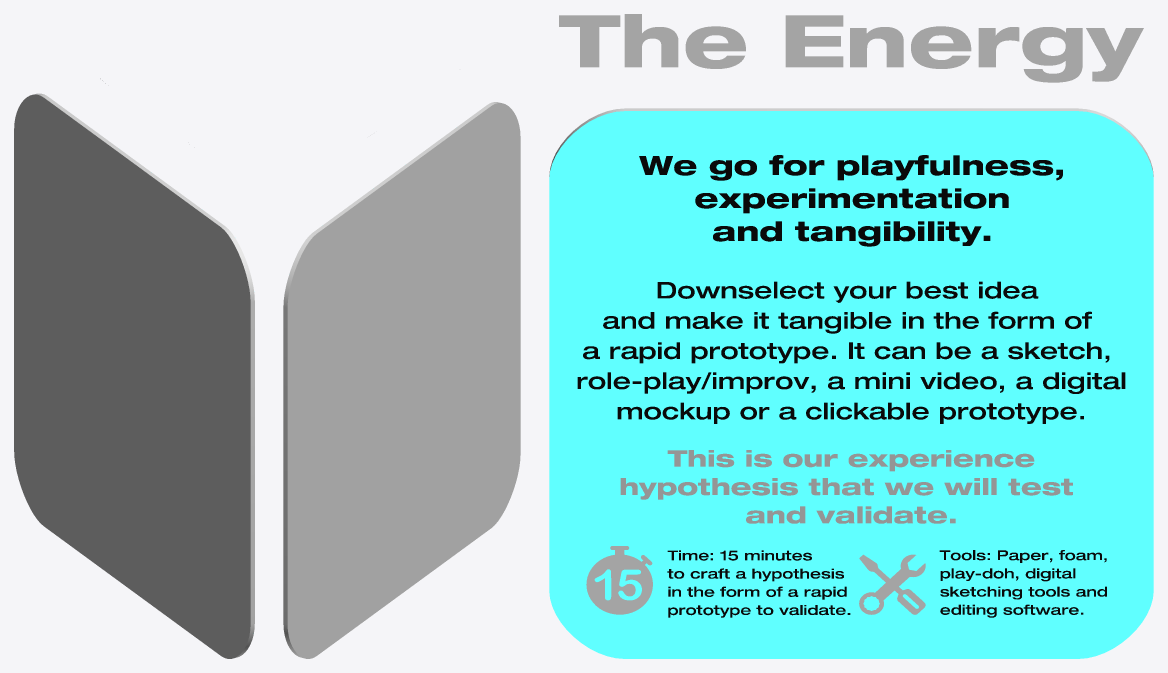
3 renders of one model, left to right at view 1: azimuth 30°, elevation 25°; view 2: azimuth 150°, elevation 25°; view 3: azimuth 270°, elevation 25°, orthographic. The views are drawn at different scales.
Visible parts, largest first — view 1: dd.002; view 2: dd.002; view 3: dd.002, dd.006, dd.004, dd.003, dd, dd.001.
Boxes of the visible parts, x1,y1,x2,y2 form: dd.002: (14, 93, 254, 658); dd.002: (283, 102, 520, 658); dd.002: (549, 108, 1153, 658); dd.006: (577, 281, 1125, 617); dd.004: (559, 14, 1143, 82); dd.003: (639, 155, 1062, 246); dd: (620, 450, 1072, 523); dd.001: (586, 546, 925, 614).
Bounding box in the file's own units: 0.2525 × 6.94 × 5.9.
